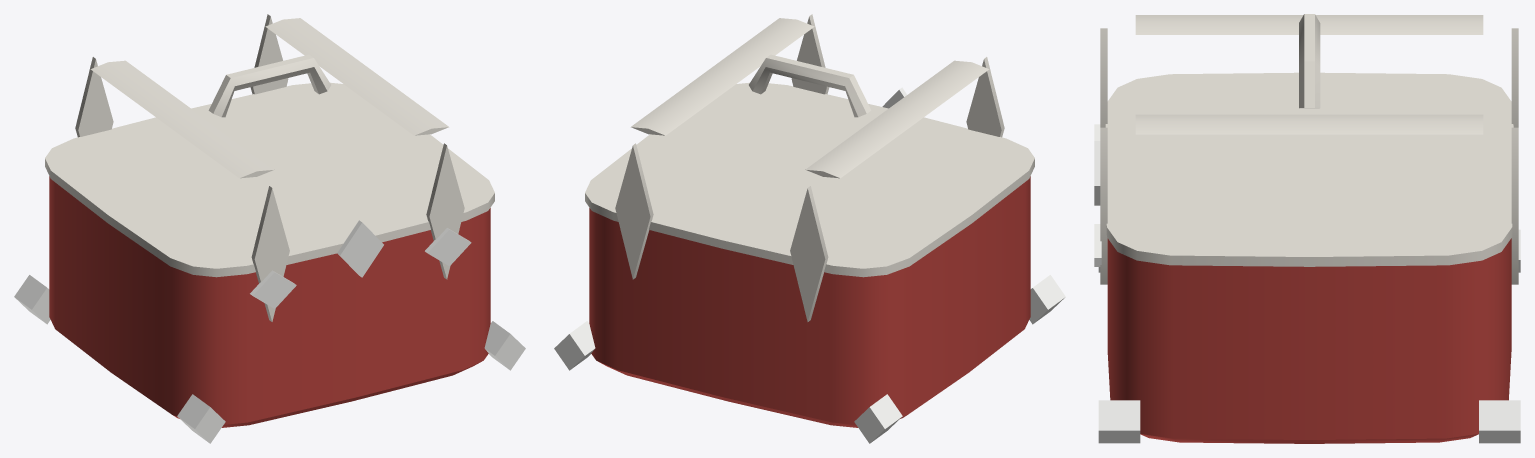
Rendered from trunk.glb.
3 renders of one model, left to right at view 1: azimuth 30°, elevation 25°; view 2: azimuth 150°, elevation 25°; view 3: azimuth 270°, elevation 25°, orthographic. The views are drawn at different scales.
Visible parts, largest first — view 1: lod0; view 2: lod0; view 3: lod0.
Part boxes in pixels (<box>): lod0: <box>14,14,525,443</box>; lod0: <box>554,14,1065,443</box>; lod0: <box>1094,14,1520,443</box>.
Size of what is drawn, in the model's own units: 0.375 by 0.2975 by 0.3585.
